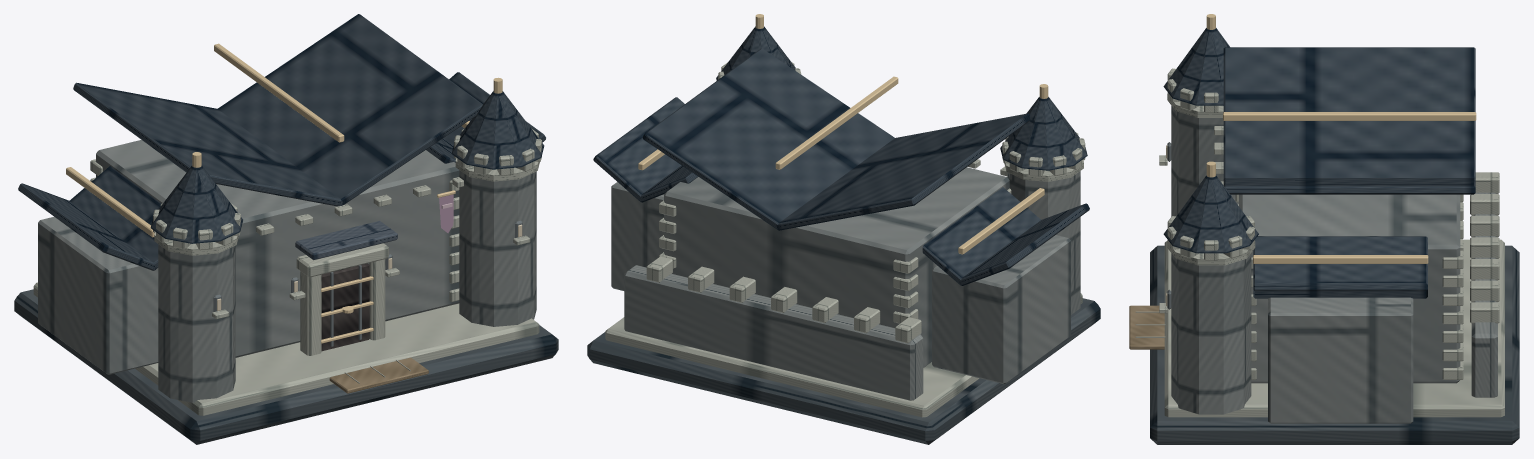
Rendered from Bastion_03.glb.
3 renders of one model, left to right at view 1: azimuth 30°, elevation 25°; view 2: azimuth 150°, elevation 25°; view 3: azimuth 270°, elevation 25°, orthographic. The views are drawn at different scales.
Parts seen in each view (by area): view 1: Keep/right.002, Main keep - ashlar walls.002, Western gallery.001, Rock-and-masonry plinth.002, Dressed foundation.002, Keep/left.002, Octagonal masonry turret.002, Octagonal masonry turret.001, Hand-cut slate turret roof.002, Hand-cut slate turret roof.001, Gallery west/right.001, Two oak gate leaves.006 (+11 smaller); view 2: Main keep - ashlar walls.002, Keep/right.002, Curtain wall, Western gallery.001, Rock-and-masonry plinth.002, Keep/left.002, Dressed foundation.002, Gallery west/right.001, Eastern gallery, Gallery east/right, Hand-cut slate turret roof.002, Octagonal masonry turret.002 (+13 smaller); view 3: Keep/left.002, Eastern gallery, Main keep - ashlar walls.002, Rock-and-masonry plinth.002, Octagonal masonry turret.001, Dressed foundation.002, Gallery east/left, Keep/right.002, Hand-cut slate turret roof.001, Octagonal masonry turret.002, Hand-cut slate turret roof.002, Gallery east/right (+13 smaller).
Part boxes in pixels (left/top/right/bottom): Keep/right.002: left=217, top=14, right=482, bottom=205; Main keep - ashlar walls.002: left=96, top=140, right=459, bottom=357; Western gallery.001: left=38, top=216, right=158, bottom=374; Rock-and-masonry plinth.002: left=14, top=289, right=558, bottom=444; Dressed foundation.002: left=33, top=282, right=539, bottom=415; Keep/left.002: left=73, top=82, right=342, bottom=206; Octagonal masonry turret.002: left=158, top=244, right=235, bottom=402; Octagonal masonry turret.001: left=459, top=170, right=536, bottom=326; Hand-cut slate turret roof.002: left=150, top=165, right=242, bottom=243; Hand-cut slate turret roof.001: left=451, top=91, right=544, bottom=169; Gallery west/right.001: left=69, top=166, right=161, bottom=270; Two oak gate leaves.006: left=321, top=263, right=369, bottom=351; Main keep - ashlar walls.002: left=664, top=167, right=1009, bottom=367; Keep/right.002: left=642, top=48, right=894, bottom=230; Curtain wall: left=624, top=265, right=923, bottom=400; Western gallery.001: left=932, top=235, right=1070, bottom=384; Rock-and-masonry plinth.002: left=587, top=298, right=1100, bottom=444; Keep/left.002: left=776, top=113, right=1029, bottom=230; Dressed foundation.002: left=605, top=293, right=1082, bottom=417; Gallery west/right.001: left=922, top=187, right=1040, bottom=285; Eastern gallery: left=611, top=182, right=663, bottom=290; Gallery east/right: left=593, top=97, right=684, bottom=201; Hand-cut slate turret roof.002: left=1000, top=97, right=1087, bottom=170; Octagonal masonry turret.002: left=1007, top=171, right=1080, bottom=314; Keep/left.002: left=1223, top=47, right=1475, bottom=178; Eastern gallery: left=1268, top=297, right=1413, bottom=423; Main keep - ashlar walls.002: left=1239, top=194, right=1460, bottom=383; Rock-and-masonry plinth.002: left=1150, top=245, right=1519, bottom=444; Octagonal masonry turret.001: left=1171, top=253, right=1251, bottom=414; Dressed foundation.002: left=1164, top=239, right=1504, bottom=417; Gallery east/left: left=1253, top=236, right=1427, bottom=284; Keep/right.002: left=1223, top=178, right=1475, bottom=194; Hand-cut slate turret roof.001: left=1163, top=175, right=1258, bottom=253; Octagonal masonry turret.002: left=1171, top=106, right=1238, bottom=216; Hand-cut slate turret roof.002: left=1163, top=28, right=1229, bottom=105; Gallery east/right: left=1253, top=283, right=1427, bottom=298.
Size of the model in its own units: 13.16 by 7.54 by 9.96.
Materials: 16 (10 with a texture image).
